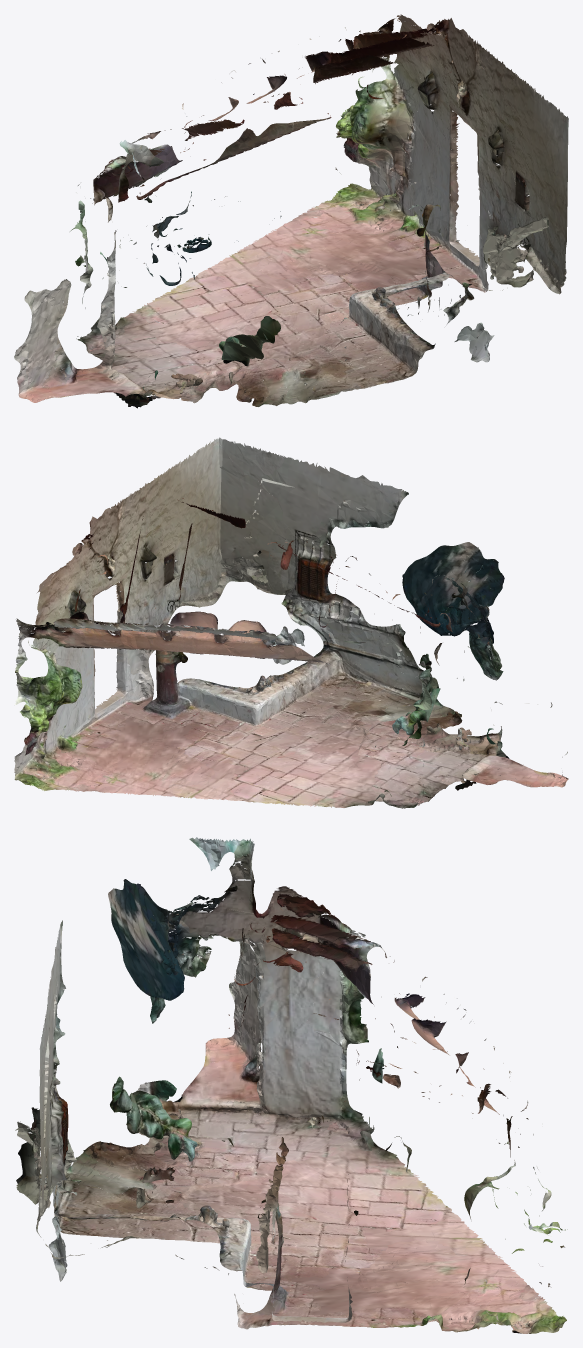
The model's file is esc_baja_muros_09.glb.
3 renders of one model, top to bottom at view 1: azimuth 30°, elevation 25°; view 2: azimuth 150°, elevation 25°; view 3: azimuth 270°, elevation 25°, orthographic. The views are drawn at different scales.
Parts seen in each view (by area): view 1: muros_Acceso_9_GLTF, muros_Acceso_9_GLTF_1; view 2: muros_Acceso_9_GLTF, muros_Acceso_9_GLTF_1; view 3: muros_Acceso_9_GLTF, muros_Acceso_9_GLTF_1.
Boxes of the visible parts, x1,y1,x2,y2 form: muros_Acceso_9_GLTF: (14,17,568,408); muros_Acceso_9_GLTF_1: (17,14,558,402); muros_Acceso_9_GLTF: (14,437,567,808); muros_Acceso_9_GLTF_1: (14,475,568,792); muros_Acceso_9_GLTF: (16,837,566,1333); muros_Acceso_9_GLTF_1: (15,841,567,1333).
Bounding box in the file's own units: 7.91 × 3.73 × 6.46.
Materials: 2 (2 with a texture image).
